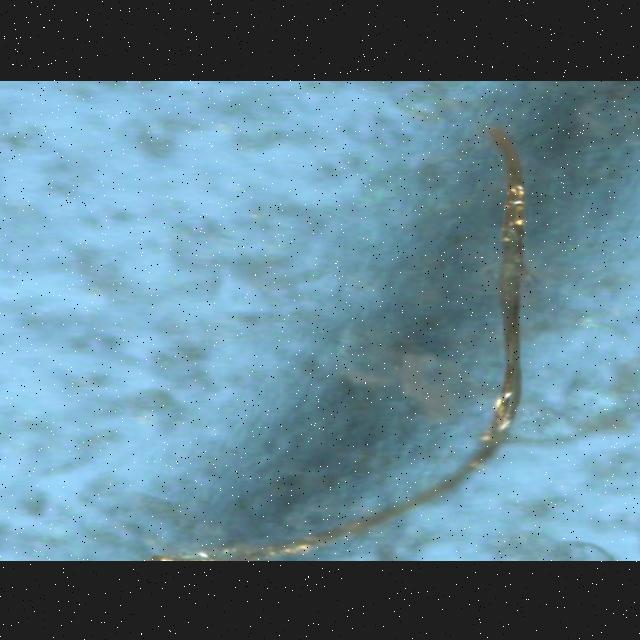Fibre: (143, 126, 532, 560)
